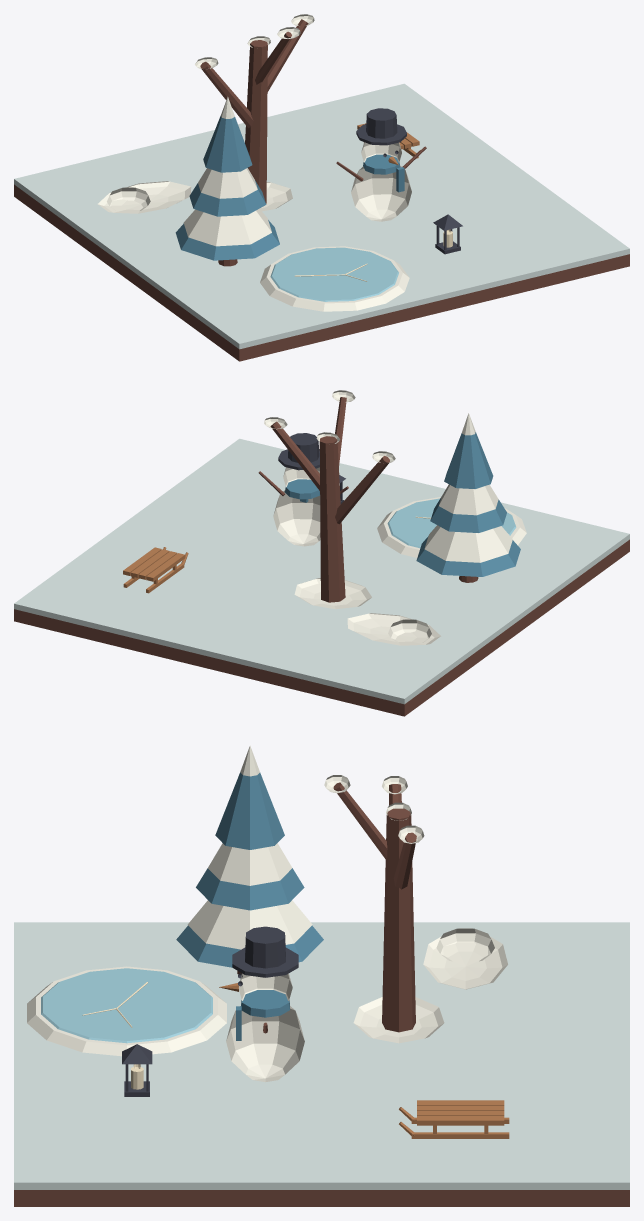
The model's file is turning-seasons-winter-garden-scene-4168575b__2186.glb.
3 views of the same model, one above another, from view 1: azimuth 30°, elevation 25°; view 2: azimuth 150°, elevation 25°; view 3: azimuth 270°, elevation 25° (orthographic). The views are drawn at different scales.
Visible parts, largest first — view 1: 000-winter-ground-tile/1, 000-winter-ground-tile/0, 007-frozen-pond/1, 001-winter-orchard-tree/0, 003-snowman/0, 002-snowy-fir/2, 007-frozen-pond/0, 006-snowdrift/0, 002-snowy-fir/5, 002-snowy-fir/1, 002-snowy-fir/3, 002-snowy-fir/4 (+4 smaller); view 2: 000-winter-ground-tile/1, 000-winter-ground-tile/0, 001-winter-orchard-tree/0, 002-snowy-fir/2, 003-snowman/0, 006-snowdrift/0, 002-snowy-fir/5, 007-frozen-pond/1, 002-snowy-fir/1, 004-wooden-sled/0, 002-snowy-fir/3, 002-snowy-fir/4 (+4 smaller); view 3: 000-winter-ground-tile/1, 000-winter-ground-tile/0, 007-frozen-pond/1, 001-winter-orchard-tree/0, 003-snowman/0, 007-frozen-pond/0, 006-snowdrift/0, 002-snowy-fir/2, 002-snowy-fir/5, 004-wooden-sled/0, 002-snowy-fir/3, 002-snowy-fir/4 (+5 smaller).
Part boxes in pixels (x1=…): 000-winter-ground-tile/1: x1=14, y1=83, x2=629, y2=349; 000-winter-ground-tile/0: x1=14, y1=184, x2=629, y2=361; 007-frozen-pond/1: x1=270, y1=247, x2=398, y2=301; 001-winter-orchard-tree/0: x1=200, y1=19, x2=308, y2=203; 003-snowman/0: x1=351, y1=142, x2=411, y2=221; 002-snowy-fir/2: x1=183, y1=208, x2=271, y2=246; 007-frozen-pond/0: x1=260, y1=246, x2=409, y2=311; 006-snowdrift/0: x1=98, y1=181, x2=191, y2=213; 002-snowy-fir/5: x1=203, y1=115, x2=252, y2=172; 002-snowy-fir/1: x1=175, y1=220, x2=279, y2=260; 002-snowy-fir/3: x1=189, y1=180, x2=266, y2=216; 002-snowy-fir/4: x1=198, y1=168, x2=257, y2=198; 000-winter-ground-tile/1: x1=14, y1=438, x2=629, y2=704; 000-winter-ground-tile/0: x1=14, y1=539, x2=629, y2=716; 001-winter-orchard-tree/0: x1=270, y1=397, x2=389, y2=602; 002-snowy-fir/2: x1=424, y1=525, x2=512, y2=562; 003-snowman/0: x1=273, y1=467, x2=320, y2=546; 006-snowdrift/0: x1=347, y1=613, x2=440, y2=645; 002-snowy-fir/5: x1=444, y1=432, x2=493, y2=488; 007-frozen-pond/1: x1=387, y1=498, x2=516, y2=548; 002-snowy-fir/1: x1=416, y1=536, x2=520, y2=576; 004-wooden-sled/0: x1=123, y1=547, x2=188, y2=593; 002-snowy-fir/3: x1=430, y1=497, x2=506, y2=532; 002-snowy-fir/4: x1=439, y1=484, x2=498, y2=515; 000-winter-ground-tile/1: x1=14, y1=922, x2=629, y2=1189; 000-winter-ground-tile/0: x1=14, y1=1190, x2=629, y2=1206; 007-frozen-pond/1: x1=41, y1=968, x2=212, y2=1043; 001-winter-orchard-tree/0: x1=333, y1=782, x2=416, y2=1032; 003-snowman/0: x1=226, y1=973, x2=304, y2=1082; 007-frozen-pond/0: x1=27, y1=966, x2=226, y2=1056; 006-snowdrift/0: x1=423, y1=928, x2=507, y2=989; 002-snowy-fir/2: x1=187, y1=900, x2=312, y2=949; 002-snowy-fir/5: x1=215, y1=772, x2=284, y2=849; 004-wooden-sled/0: x1=399, y1=1100, x2=509, y2=1138; 002-snowy-fir/3: x1=196, y1=868, x2=304, y2=910; 002-snowy-fir/4: x1=208, y1=843, x2=292, y2=885.
Size of the model in its own units: 6 by 3.02 by 6.
